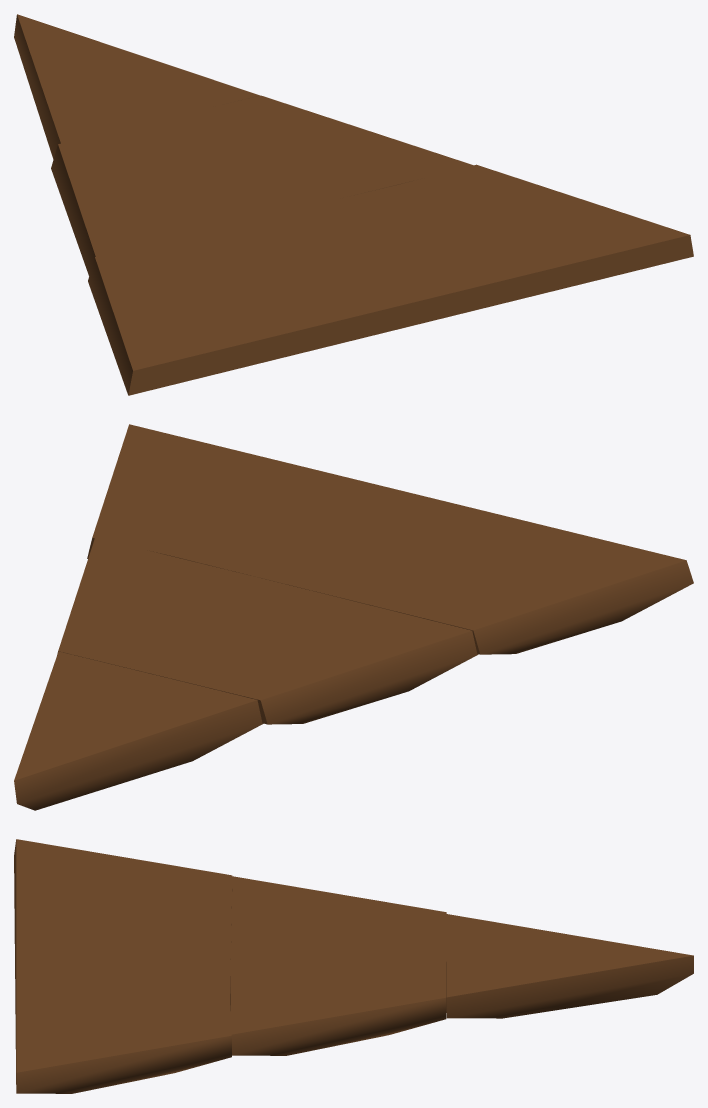
File: sl45_willowSplitLogTriFloorSection2.glb
3 renders of one model, top to bottom at view 1: azimuth 30°, elevation 25°; view 2: azimuth 150°, elevation 25°; view 3: azimuth 270°, elevation 25°, orthographic. The views are drawn at different scales.
Visible parts, largest first — view 1: inside; view 2: inside; view 3: inside.
Part boxes in pixels (box(x1,y1,x2,y2)): inside: box(14, 14, 693, 395); inside: box(14, 424, 693, 810); inside: box(14, 839, 693, 1093).
Bounding box in the file's own units: 1.58 × 0.1233 × 1.91.
